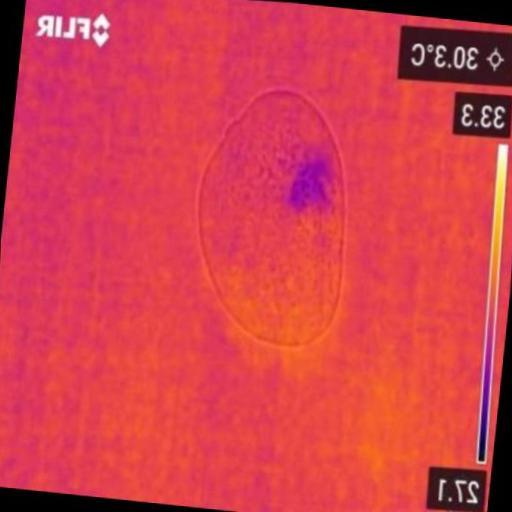alphanso: (199, 89, 345, 347)
